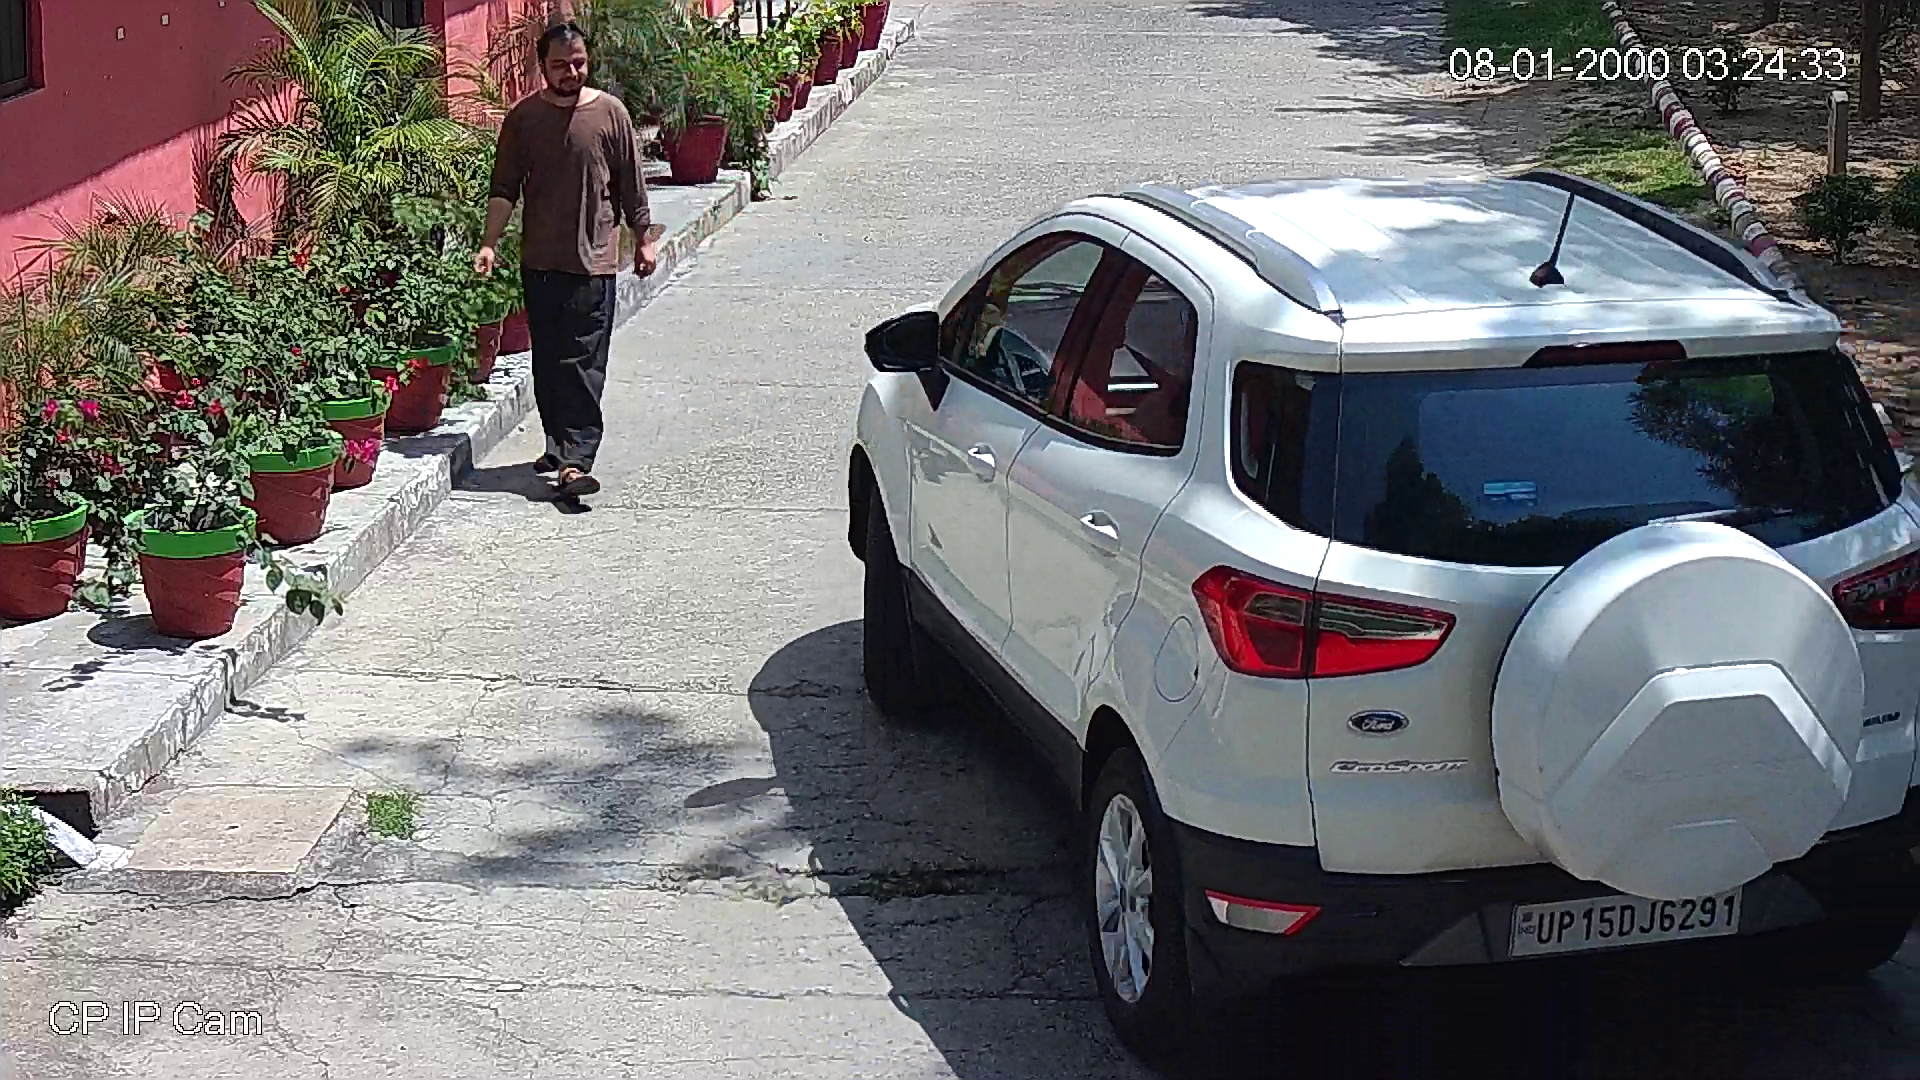plate: (1502, 886, 1742, 968)
